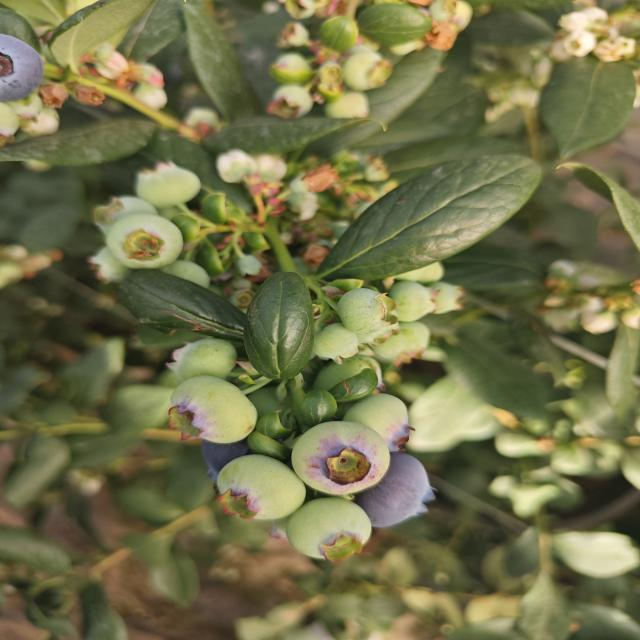ripe: (369, 456, 443, 530), (184, 424, 270, 483), (0, 27, 48, 102)
